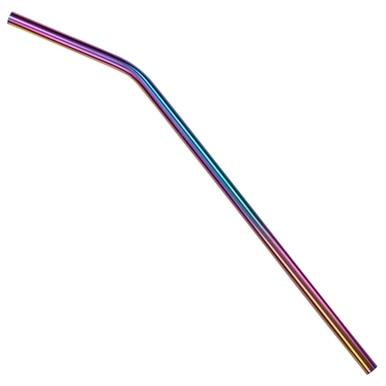Drinking Straw: (3, 10, 379, 377)
